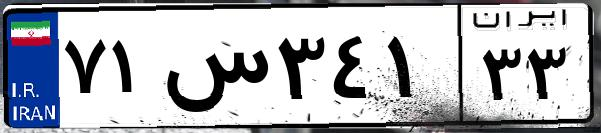1: (385, 28, 445, 110), (110, 28, 158, 98)
3: (270, 28, 330, 110), (475, 38, 525, 113), (525, 38, 570, 115)
4: (330, 28, 385, 110)
7: (57, 26, 110, 100)
س: (158, 20, 270, 120)
